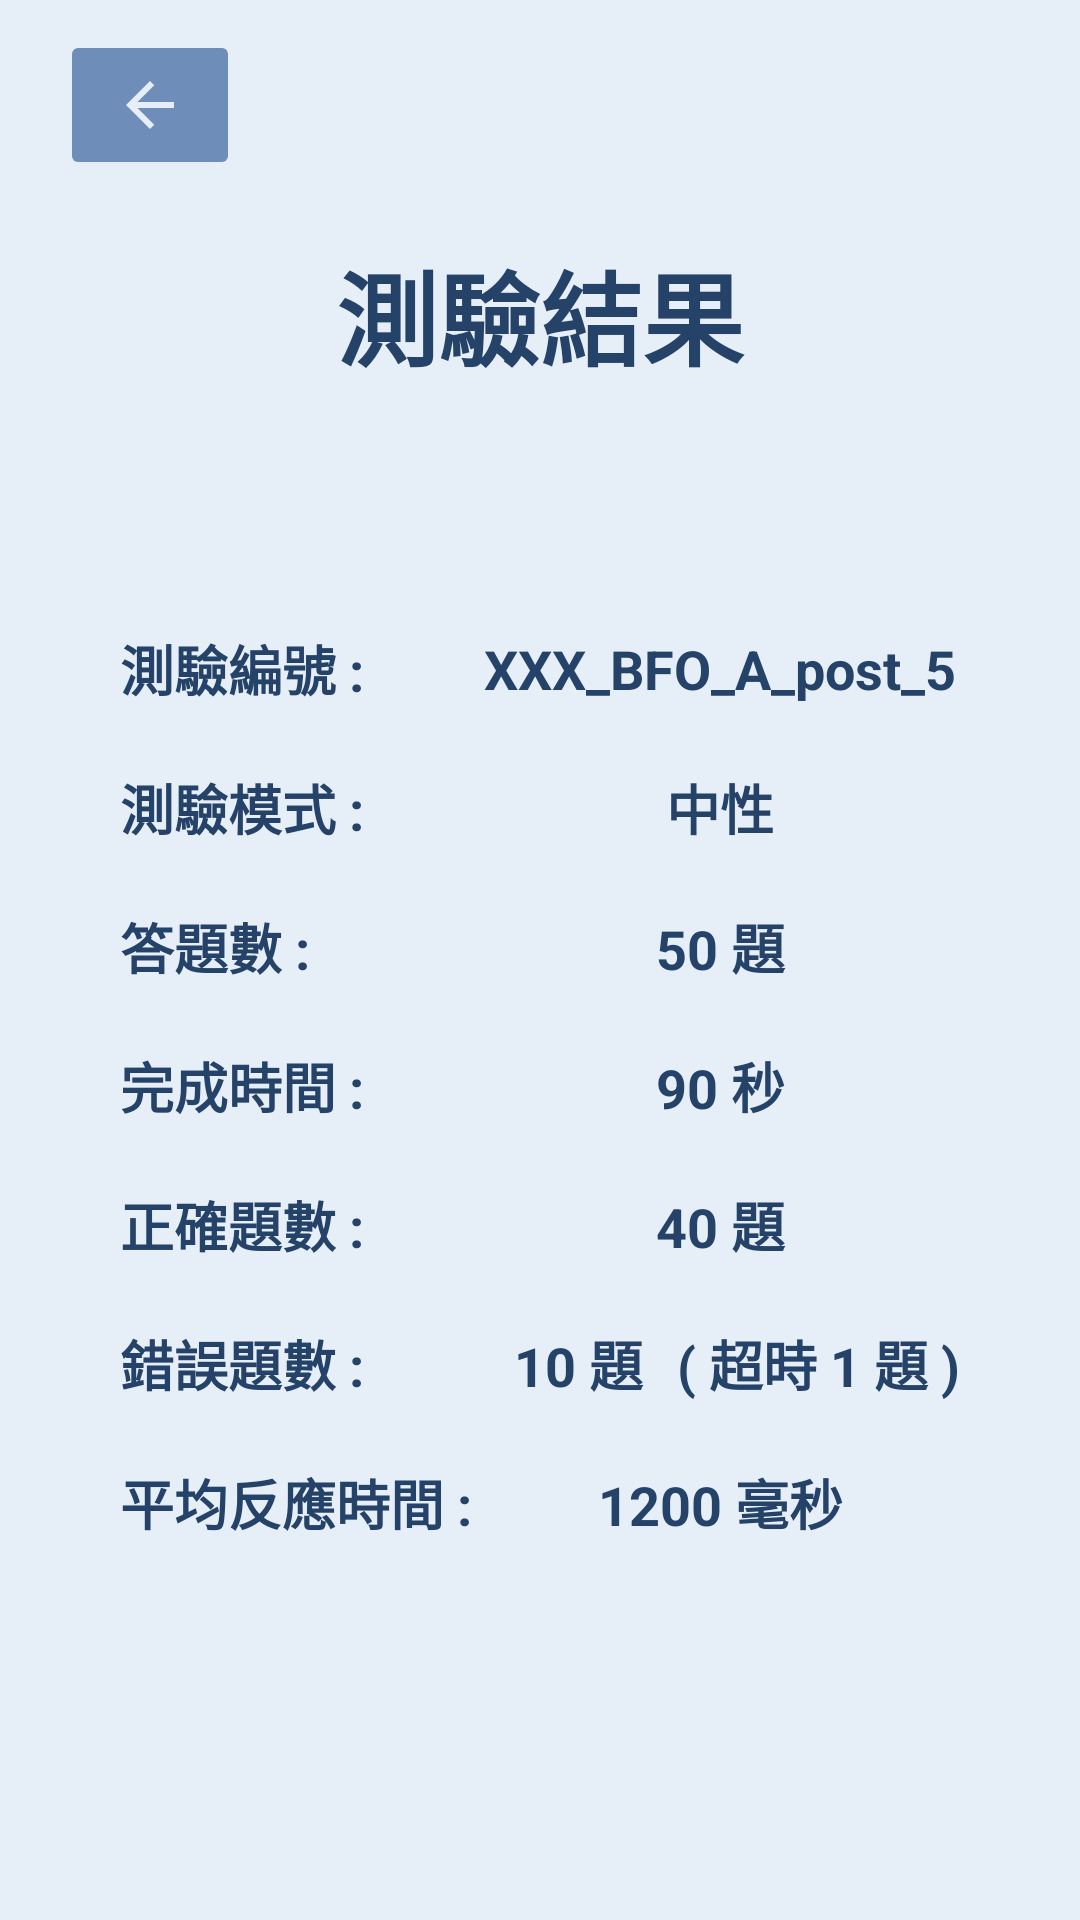

Screen size 1080px×1920px. Icon name, then its box in pixels as (x1, y1, x2, y2):
back arrow: (72, 48, 228, 162)
